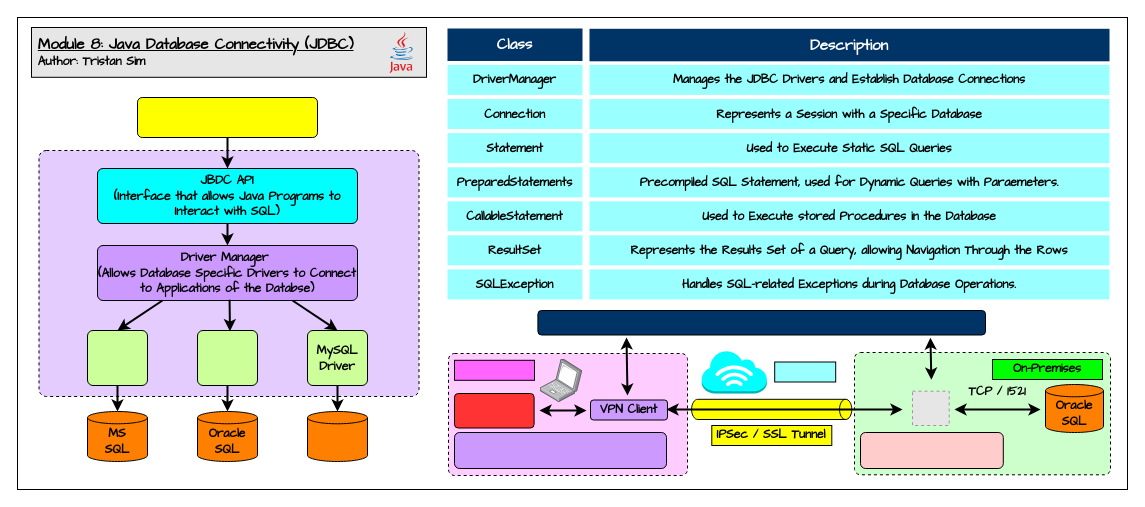
Some shapes in this 1145 by 507 pixel diagram are drawn without their labels. Grey dashed boxes stand in for pictures. Each missing label, with the centre of its shape:
"Application (Java Program)" belongs at (227,117).
"Client" belongs at (494,369).
"Internet" belongs at (805,371).
"Java (SQL Client)" belongs at (494,410).
"MS SQL Driver" belongs at (117,358).
"MySQL" belongs at (337,436).
"Next-Generation Firewall (VPN Gateway)" belongs at (931,450).
"Oracle SQL Driver" belongs at (227,358).
"Single-Sign-On (SSO) + Multi-Factor Authentication (MFA) Service" belongs at (761,322).
"Will Assign a Static Route (Split/Full Tunnel)" belongs at (560,450).
